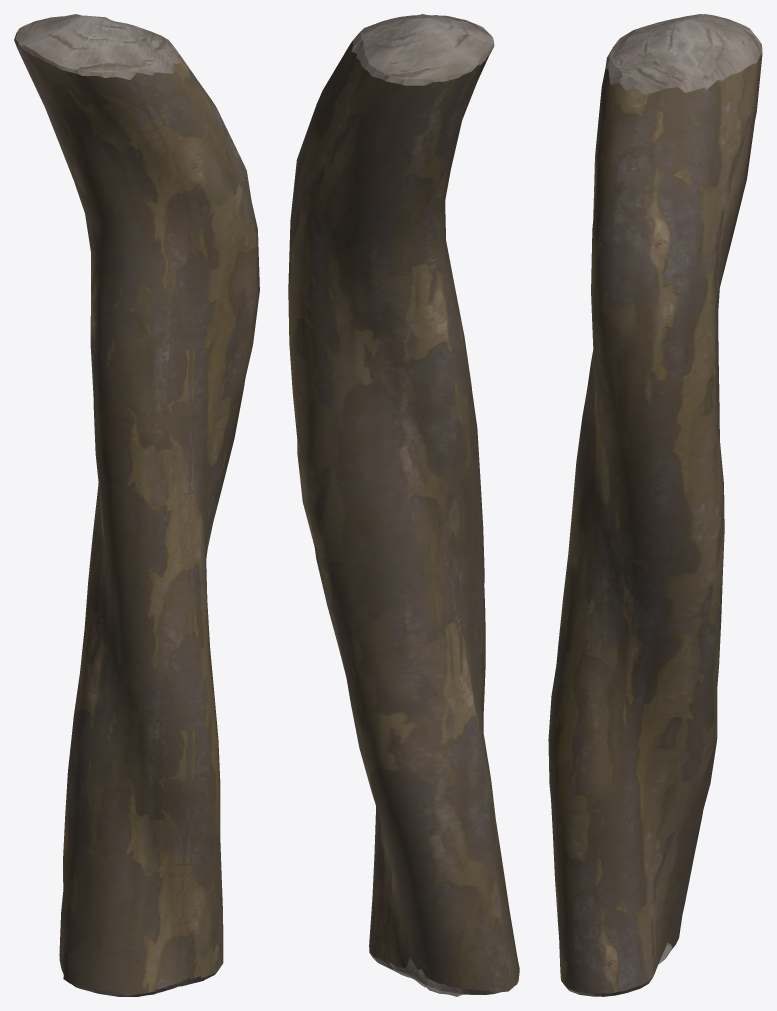
3 views of the same model, side by side, from view 1: azimuth 30°, elevation 25°; view 2: azimuth 150°, elevation 25°; view 3: azimuth 270°, elevation 25° (orthographic). The views are drawn at different scales.
Visible parts, largest first — view 1: SM_Yew_01_tree_quarters_top_LOD0; view 2: SM_Yew_01_tree_quarters_top_LOD0; view 3: SM_Yew_01_tree_quarters_top_LOD0.
Part boxes in pixels (x1,y1,x2,y2): SM_Yew_01_tree_quarters_top_LOD0: (14, 14, 259, 996); SM_Yew_01_tree_quarters_top_LOD0: (288, 14, 519, 996); SM_Yew_01_tree_quarters_top_LOD0: (548, 14, 762, 996).
Bounding box in the file's own units: 1.35 × 6.04 × 1.22.
Materials: 1 (1 with a texture image).
